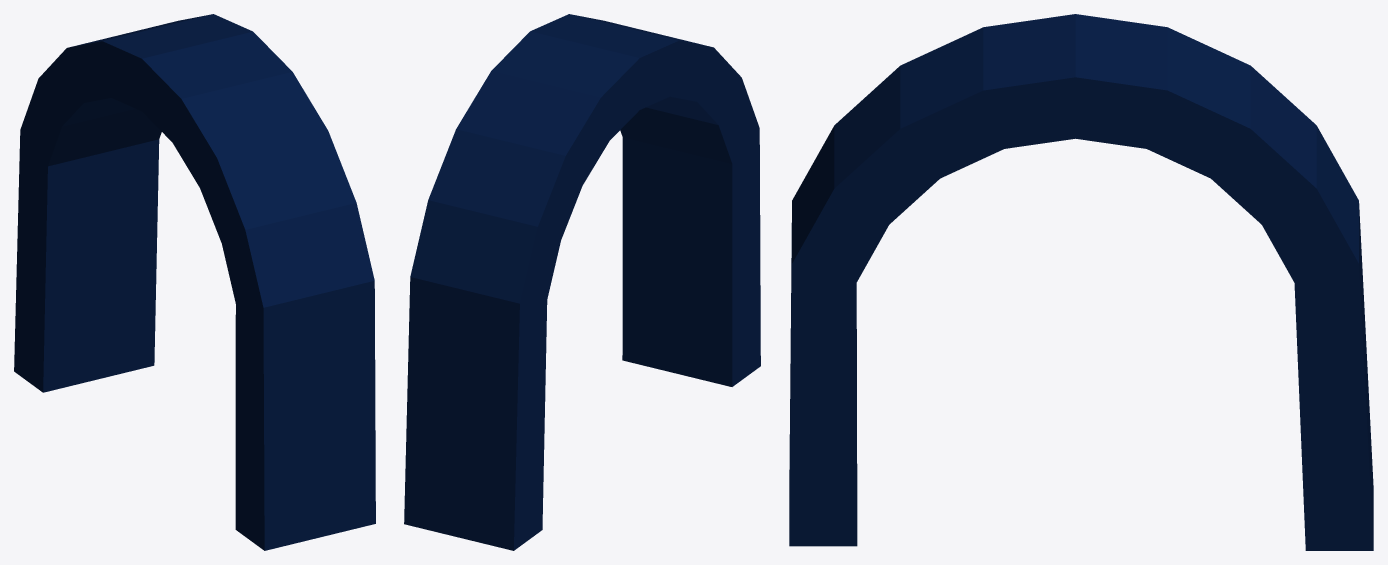
File: Ball_Door.fbx
The picture shows the model from 3 angles, left to right: view 1: azimuth 30°, elevation 25°; view 2: azimuth 150°, elevation 25°; view 3: azimuth 270°, elevation 25°; orthographic projection. The views are drawn at different scales.
Visible parts, largest first — view 1: Ball_Door; view 2: Ball_Door; view 3: Ball_Door.
Part boxes in pixels (x1,y1,x2,y2): Ball_Door: (14, 14, 375, 550); Ball_Door: (404, 14, 760, 550); Ball_Door: (789, 14, 1373, 550).
Size of the model in its own units: 101 by 351 by 392.
